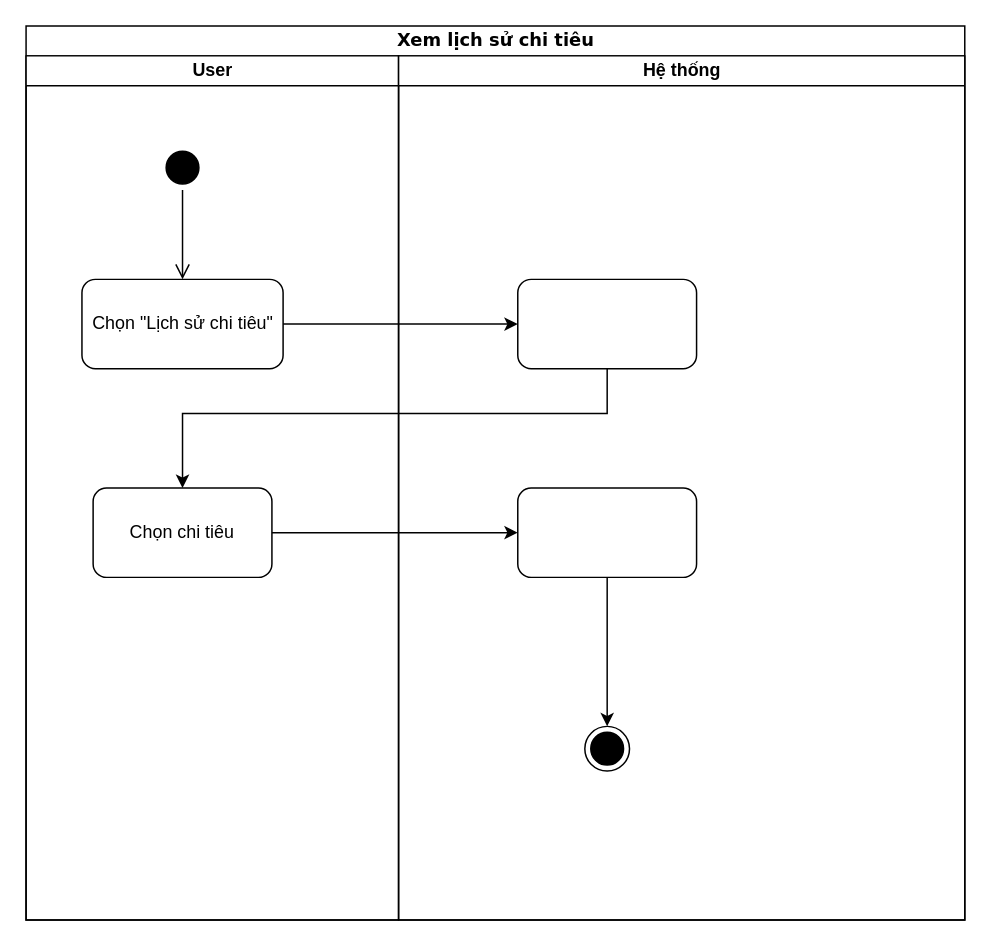
Image size: 991x946. Some labels were removed from this diagram. Each missing label, with the centre of its shape:
Hiển thị giao diện chi tiết chi tiêu: (x=606, y=531)
Hiển thị giao diện lịch sử chi tiêu: (x=606, y=323)
